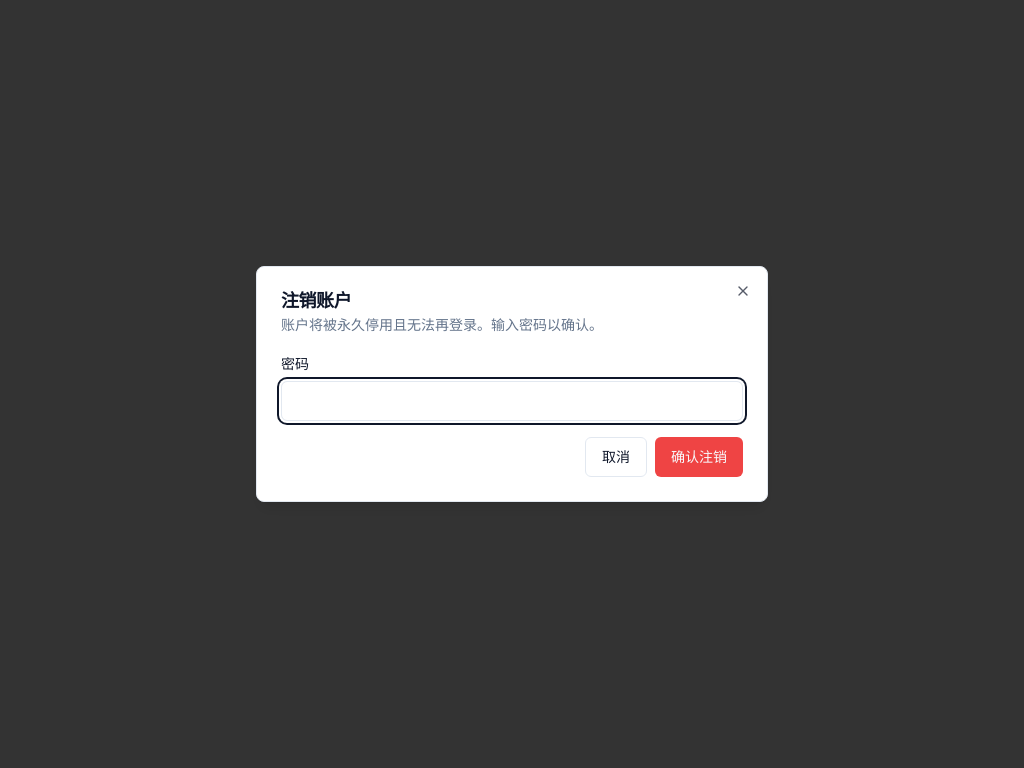
Test: DeleteAccountDialog › displays backend error detail on failure
The width and height of the screenshot is (1024, 768).
Step 1. Type "wrong" into the password field labelled "密码" → (512, 401), box [281,381,743,421]
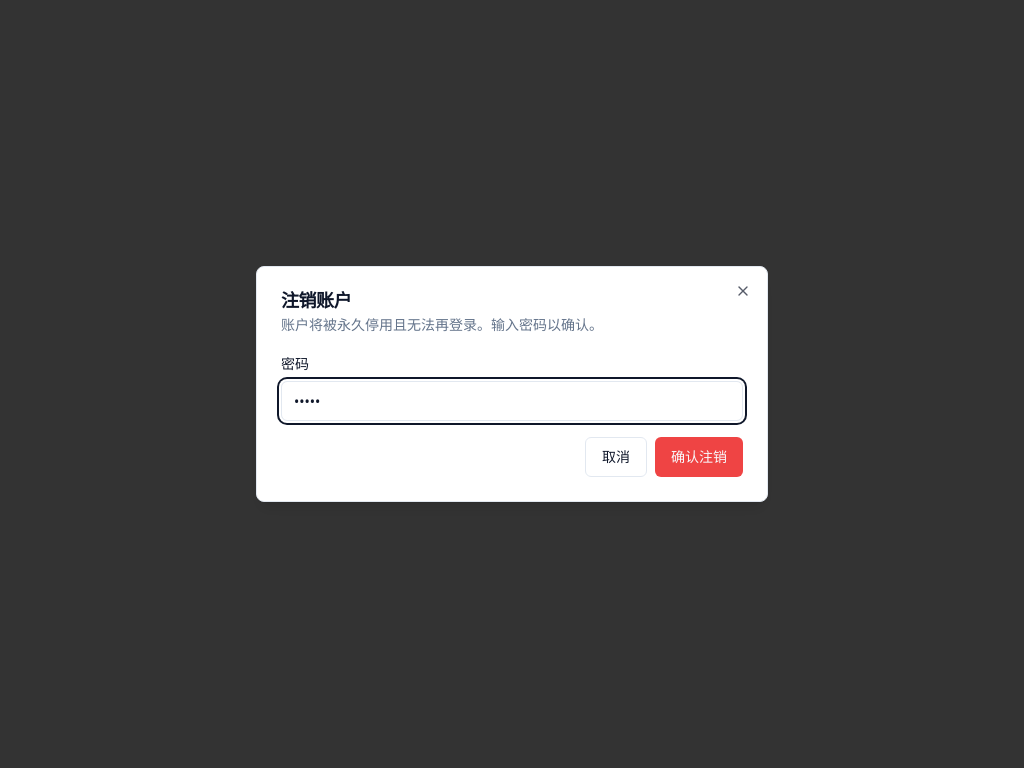
Step 2. Click the button "确认注销" → click(699, 457), box [655,437,743,477]
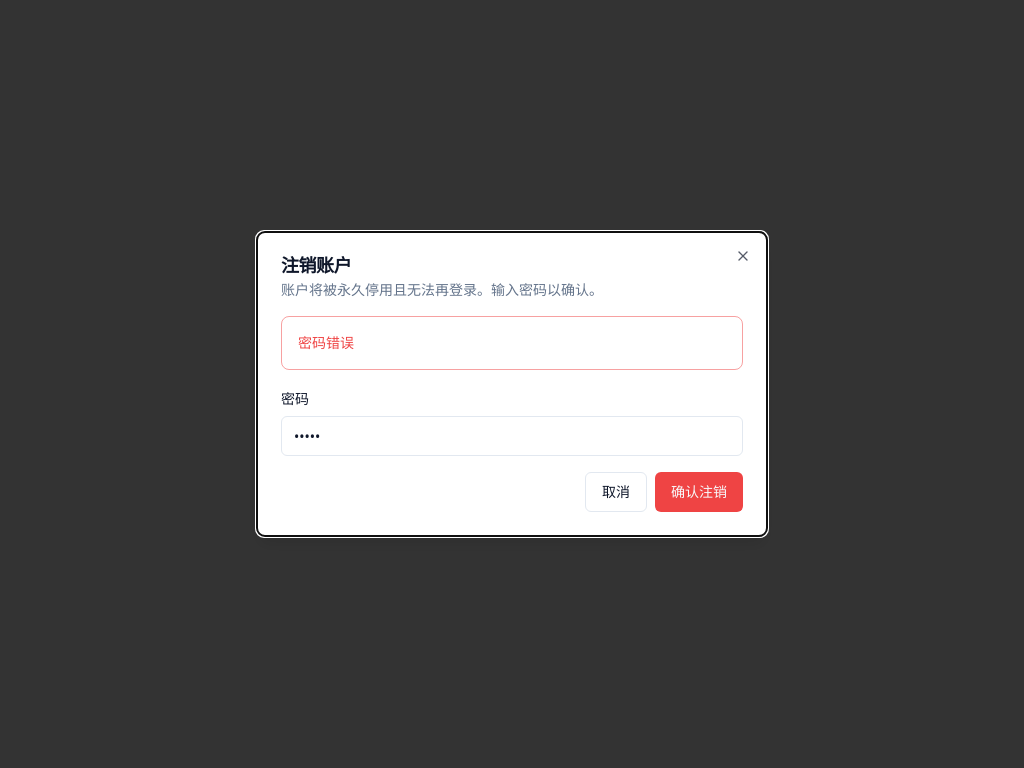
Expected: the text "密码错误" is shown, [298,333,354,352]
